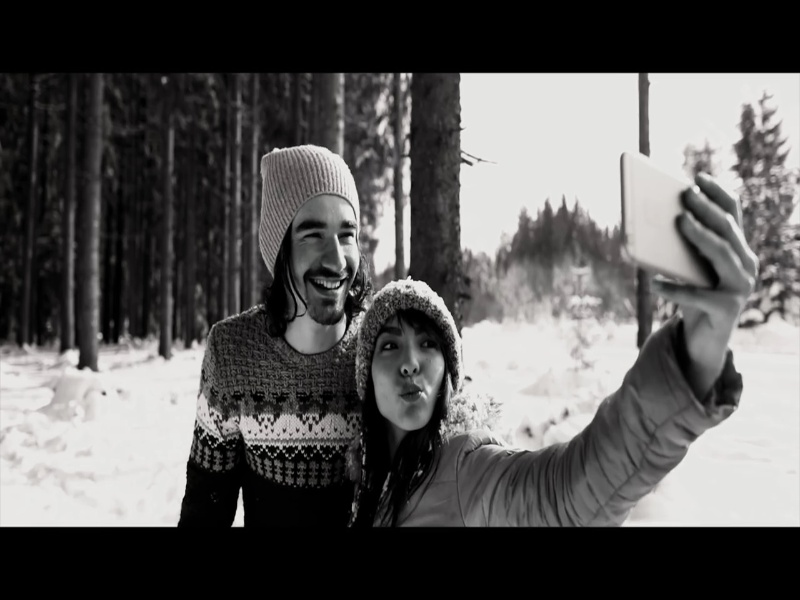TsisyArotava: (252, 151, 374, 333), (360, 287, 467, 449)
